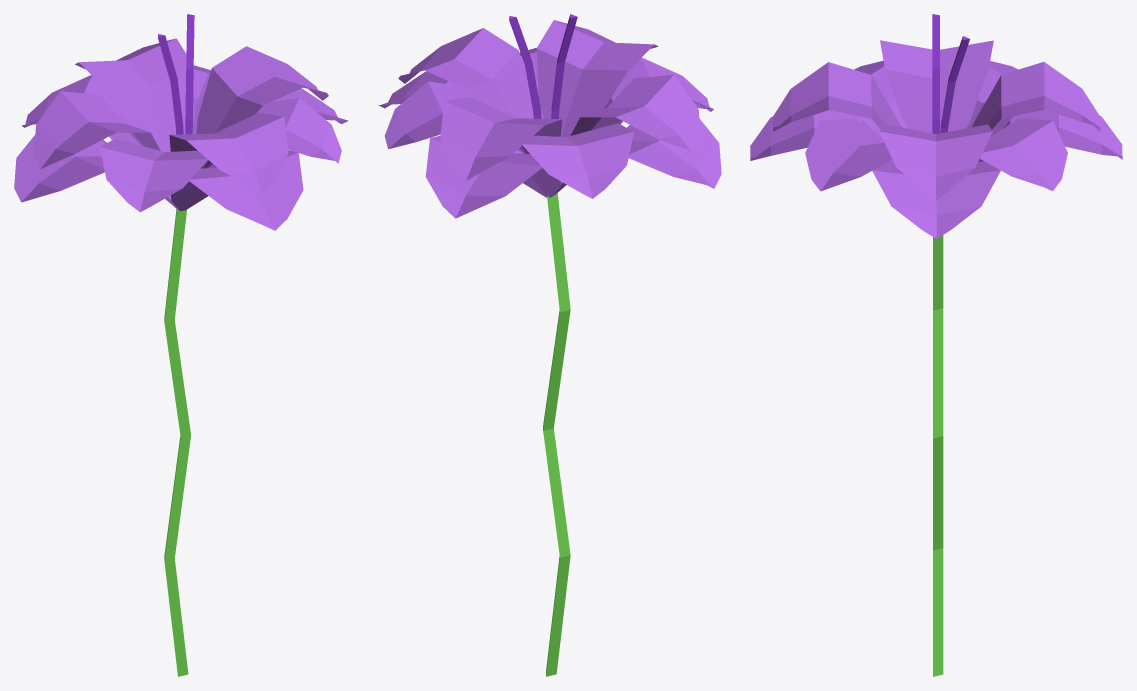
The model's file is FlorRoxa.fbx.
3 renders of one model, left to right at view 1: azimuth 30°, elevation 25°; view 2: azimuth 150°, elevation 25°; view 3: azimuth 270°, elevation 25°, orthographic. The views are drawn at different scales.
Parts seen in each view (by area): view 1: Cylinder.091; view 2: Cylinder.091; view 3: Cylinder.091.
Part boxes in pixels (x1,y1,x2,y2): Cylinder.091: (14, 14, 348, 676); Cylinder.091: (378, 14, 721, 676); Cylinder.091: (750, 14, 1122, 676).
Bounding box in the file's own units: 266 × 512 × 266.
